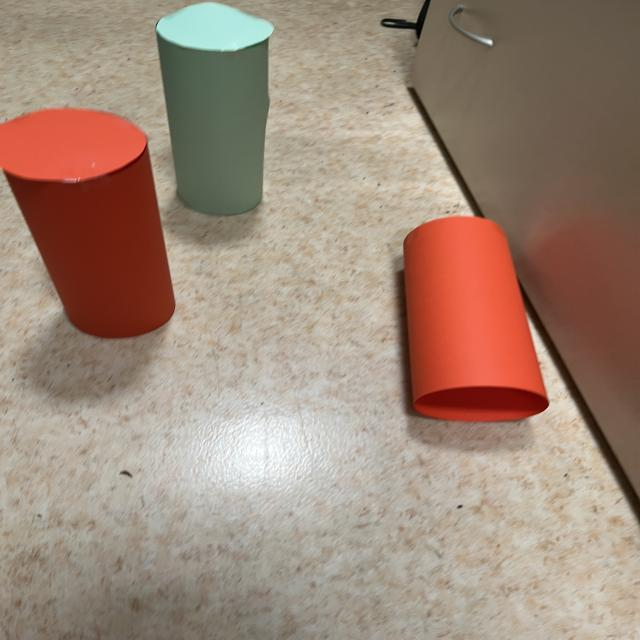meta: (156, 3, 273, 215)
przeszkoda: (0, 108, 175, 338), (404, 216, 548, 421)
